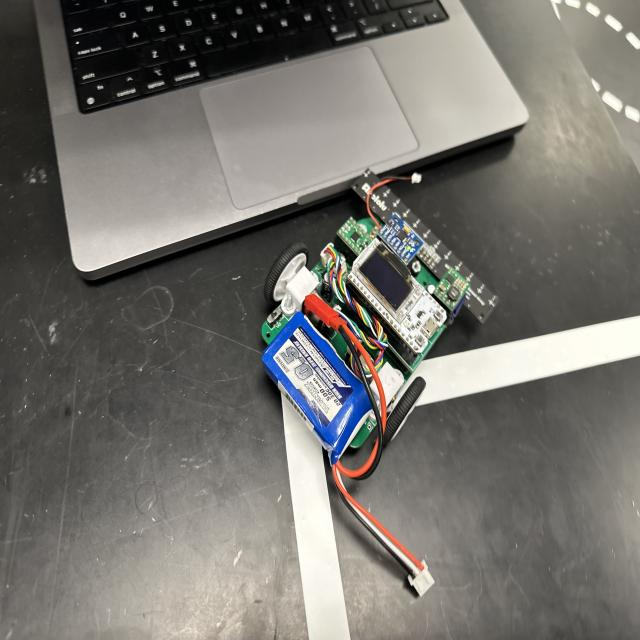robot: (254, 161, 504, 463)
